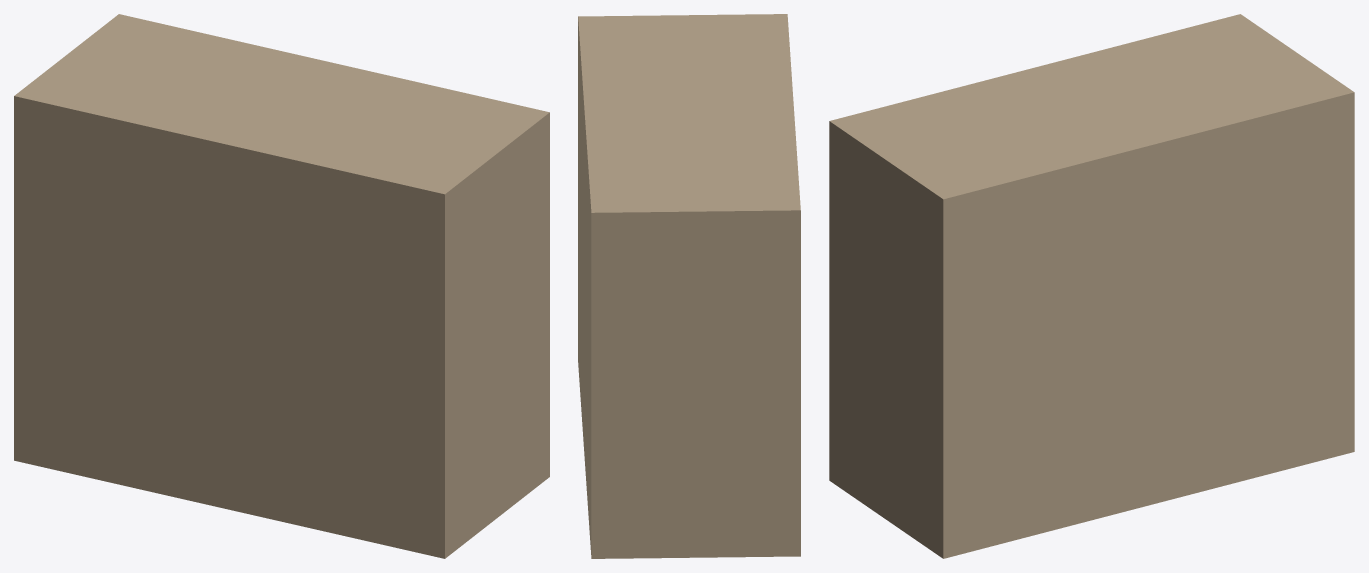
Rendered from bld_164606012.dae.
The picture shows the model from 3 angles, left to right: view 1: azimuth 30°, elevation 25°; view 2: azimuth 150°, elevation 25°; view 3: azimuth 270°, elevation 25°; orthographic projection. The views are drawn at different scales.
Visible parts, largest first — view 1: bld_164606012; view 2: bld_164606012; view 3: bld_164606012.
Boxes of the visible parts, x1=… form: bld_164606012: x1=14, y1=14, x2=549, y2=558; bld_164606012: x1=578, y1=14, x2=800, y2=558; bld_164606012: x1=829, y1=14, x2=1354, y2=558.
Bounding box in the file's own units: 8.85 × 10.59 × 8.
